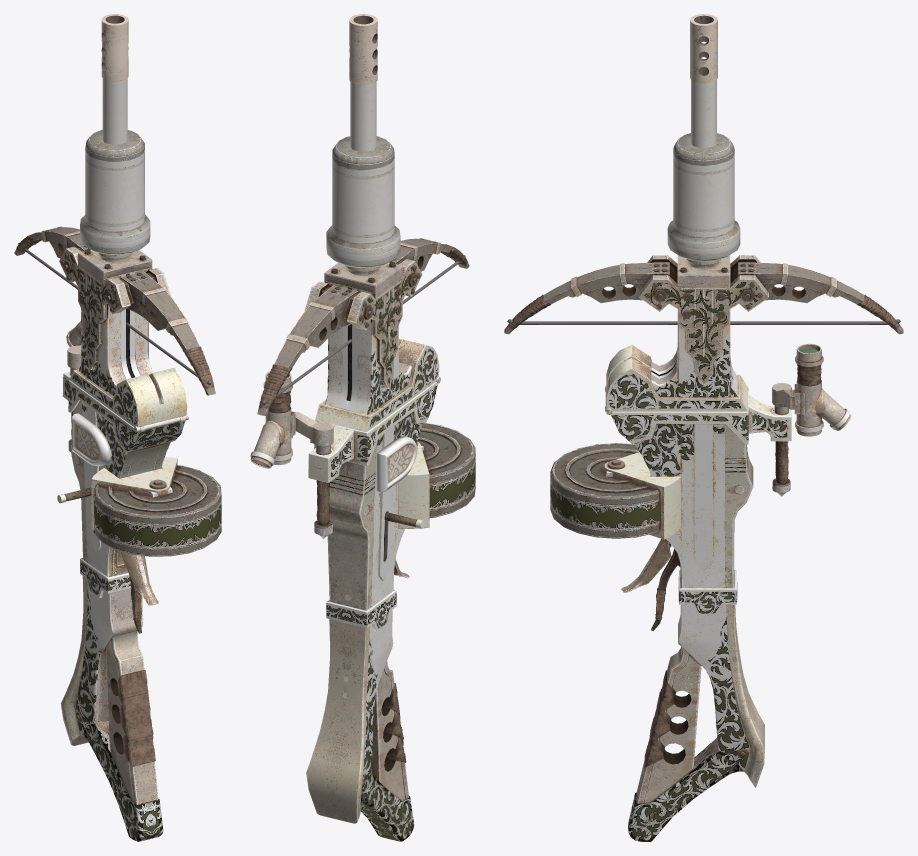
File: bs_lbg010.obj
3 views of the same model, side by side, from view 1: azimuth 30°, elevation 25°; view 2: azimuth 150°, elevation 25°; view 3: azimuth 270°, elevation 25° (orthographic). The views are drawn at different scales.
Parts seen in each view (by area): view 1: bs_lbg010_000_LOD_1, bs_lbg010_007_LOD_1, bs_lbg010_004_LOD_1, bs_lbg010_001_LOD_1, bs_lbg010_003_LOD_1, bs_lbg010_005_LOD_1, bs_lbg010_002_LOD_1; view 2: bs_lbg010_000_LOD_1, bs_lbg010_004_LOD_1, bs_lbg010_007_LOD_1, bs_lbg010_001_LOD_1, bs_lbg010_003_LOD_1, bs_lbg010_005_LOD_1, bs_lbg010_002_LOD_1; view 3: bs_lbg010_000_LOD_1, bs_lbg010_007_LOD_1, bs_lbg010_004_LOD_1, bs_lbg010_001_LOD_1, bs_lbg010_005_LOD_1, bs_lbg010_003_LOD_1, bs_lbg010_002_LOD_1.
Part boxes in pixels (x1=…): bs_lbg010_000_LOD_1: x1=57, y1=246, x2=188, y2=841; bs_lbg010_007_LOD_1: x1=91, y1=457, x2=221, y2=556; bs_lbg010_004_LOD_1: x1=80, y1=129, x2=150, y2=258; bs_lbg010_001_LOD_1: x1=14, y1=226, x2=215, y2=395; bs_lbg010_003_LOD_1: x1=100, y1=14, x2=129, y2=262; bs_lbg010_005_LOD_1: x1=66, y1=309, x2=81, y2=374; bs_lbg010_002_LOD_1: x1=18, y1=243, x2=211, y2=385; bs_lbg010_000_LOD_1: x1=304, y1=259, x2=440, y2=841; bs_lbg010_004_LOD_1: x1=326, y1=136, x2=400, y2=271; bs_lbg010_007_LOD_1: x1=398, y1=422, x2=475, y2=528; bs_lbg010_001_LOD_1: x1=257, y1=238, x2=469, y2=415; bs_lbg010_003_LOD_1: x1=348, y1=14, x2=378, y2=275; bs_lbg010_005_LOD_1: x1=250, y1=371, x2=333, y2=468; bs_lbg010_002_LOD_1: x1=261, y1=255, x2=465, y2=404; bs_lbg010_000_LOD_1: x1=605, y1=255, x2=791, y2=841; bs_lbg010_007_LOD_1: x1=550, y1=443, x2=681, y2=539; bs_lbg010_004_LOD_1: x1=667, y1=133, x2=740, y2=264; bs_lbg010_001_LOD_1: x1=504, y1=262, x2=903, y2=334; bs_lbg010_005_LOD_1: x1=772, y1=343, x2=851, y2=436; bs_lbg010_003_LOD_1: x1=689, y1=14, x2=718, y2=268; bs_lbg010_002_LOD_1: x1=507, y1=319, x2=900, y2=324.
Bounding box in the file's own units: 27.99 × 191 × 84.56.
